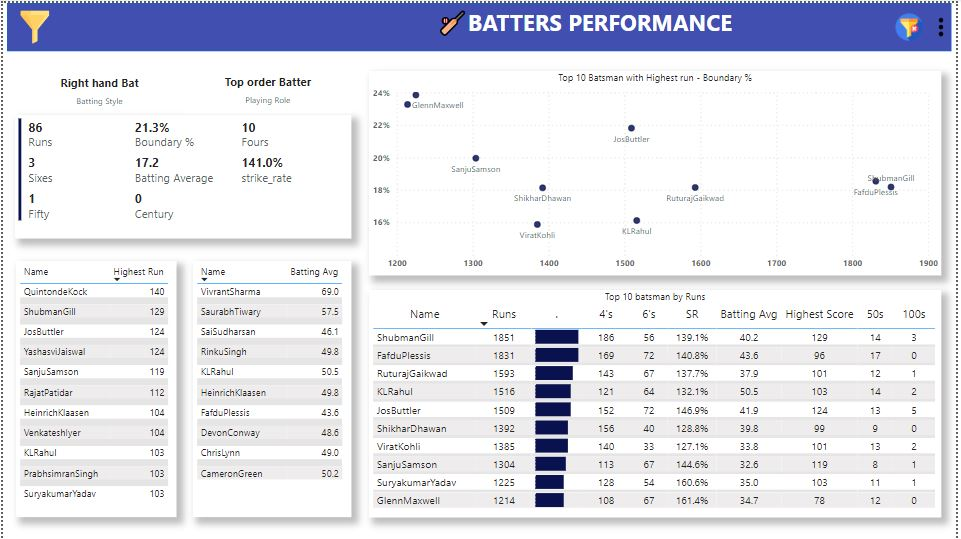

Layout of this report page (visuals, bound fields, positions):
{"tool":"powerbi","page":{"name":"Batters Performance","canvas":[1366,768],"ordinal":3},"visuals":[{"type":"shape","box":[6.1,0,1353.2,69.1],"z":0},{"type":"multiRowCard","fields":{"Values":["batsman_measures.runs_by_batsman","batsman_measures.boundary_pct","batsman_measures.fours_hit_by_batsman","batsman_measures.sixes_hit_by_batsman","batsman_measures.batting_avg","batsman_measures.strike_rate","batsman_measures.50_hit","batsman_measures.100_HIT"]},"box":[16.8,161.2,482.3,176.6],"z":1000},{"type":"tableEx","title":"Top 10 Batsman by Batting Average","fields":{"Values":["fact_bating_summary.batsmanName","batsman_measures.batting_avg"]},"box":[271.9,370.2,227.3,367.1],"z":2000},{"type":"scatterChart","title":"Top 10 Batsman with Highest  run - Boundary %","fields":{"Category":["fact_bating_summary.batsmanName"],"Y":["batsman_measures.boundary_pct"],"X":["batsman_measures.runs_by_batsman"]},"box":[523.8,96.8,820.2,293.4],"z":3000},{"type":"textbox","box":[594.4,0,477.7,69.1],"z":4000},{"type":"image","box":[1273.3,0,49.2,69.1],"z":5000},{"type":"tableEx","title":"Top 10 batsman by Runs","fields":{"Values":["fact_bating_summary.batsmanName","batsman_measures.runs_by_batsman","batsman_measures.dummy_runs_by_batsman","batsman_measures.fours_hit_by_batsman","batsman_measures.sixes_hit_by_batsman","batsman_measures.strike_rate","batsman_measures.batting_avg","batsman_measures.max_run_score","batsman_measures.50_hit","batsman_measures.100_HIT"]},"box":[523.8,411.6,820.2,325.6],"z":6000},{"type":"card","fields":{"Values":["batsman_measures.batting_style"]},"box":[18.4,89.1,239.6,70.7],"z":7000},{"type":"card","fields":{"Values":["batsman_measures.batsman_Playing_role"]},"box":[259.6,87.1,240.5,70.6],"z":8000},{"type":"image","box":[1322.5,0,43,69.1],"z":10000},{"type":"image","box":[16.9,0,56.8,69.1],"z":11000},{"type":"tableEx","fields":{"Values":["fact_bating_summary.batsmanName","batsman_measures.max_run_score"]},"box":[18.4,370.2,230.4,367.1],"z":13000}]}

Visuals, with their boxes in screenshot pixels (x1, y1, x2, y2), scaled from the page's 1366x768 canvas onto the 961x539 screenshot:
shape: [4,0,956,48]
multiRowCard - batsman_measures.runs_by_batsman x batsman_measures.boundary_pct: [12,113,351,237]
"Top 10 Batsman by Batting Average" tableEx: [191,260,351,517]
"Top 10 Batsman with Highest  run - Boundary %" scatterChart: [369,68,946,274]
textbox: [418,0,754,48]
image: [896,0,930,48]
"Top 10 batsman by Runs" tableEx: [369,289,946,517]
card - batsman_measures.batting_style: [13,63,182,112]
card - batsman_measures.batsman_Playing_role: [183,61,352,111]
image: [930,0,960,48]
image: [12,0,52,48]
tableEx - fact_bating_summary.batsmanName x batsman_measures.max_run_score: [13,260,175,517]
